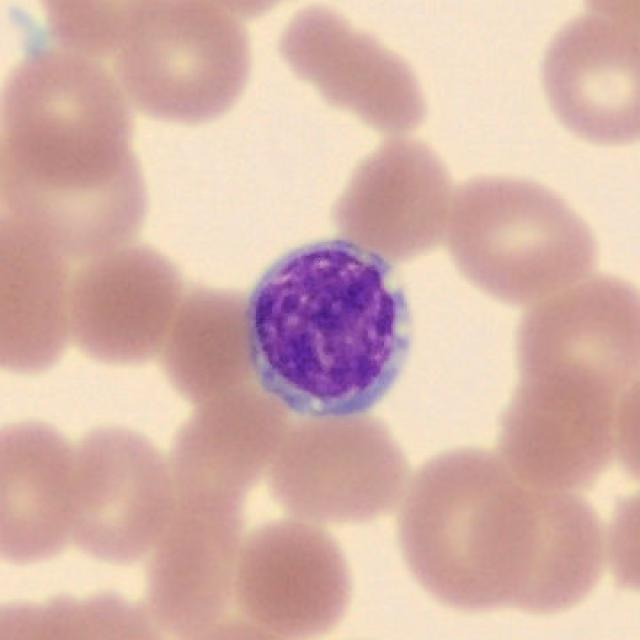Linfocito: (247, 240, 409, 418)
